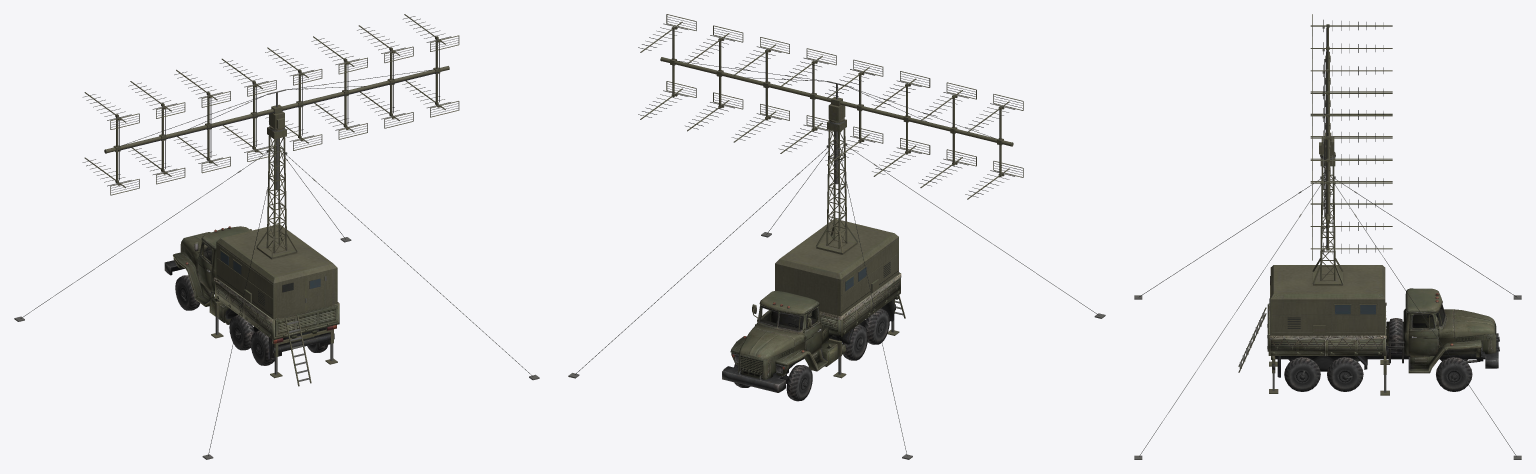
The model's file is radar.glb.
The picture shows the model from 3 angles, left to right: view 1: azimuth 30°, elevation 25°; view 2: azimuth 150°, elevation 25°; view 3: azimuth 270°, elevation 25°; orthographic projection. The views are drawn at different scales.
Parts seen in each view (by area): view 1: radar_array_4, body_kung_0, body_ural_2, body_mast_1, guy_wires_3, radar_head_5; view 2: body_ural_2, radar_array_4, body_kung_0, body_mast_1, guy_wires_3, radar_head_5; view 3: body_ural_2, body_kung_0, radar_array_4, guy_wires_3, body_mast_1.
Boxes of the visible parts, x1,y1,x2,y2 form: radar_array_4: (82,14,459,195); body_kung_0: (211,224,337,386); body_ural_2: (164,226,339,365); body_mast_1: (256,127,297,257); guy_wires_3: (14,152,539,459); radar_head_5: (267,89,286,190); body_ural_2: (722,272,901,401); radar_array_4: (638,14,1023,199); body_kung_0: (775,219,905,378); body_mast_1: (816,119,857,252); guy_wires_3: (568,143,1105,459); radar_head_5: (827,81,846,184); body_ural_2: (1267,288,1499,391); body_kung_0: (1238,265,1389,395); radar_array_4: (1310,14,1392,260); guy_wires_3: (1134,179,1521,459); body_mast_1: (1312,155,1343,283).
Size of the model in its own units: 12 by 9.09 by 11.45.
2 materials, 2 textured.
